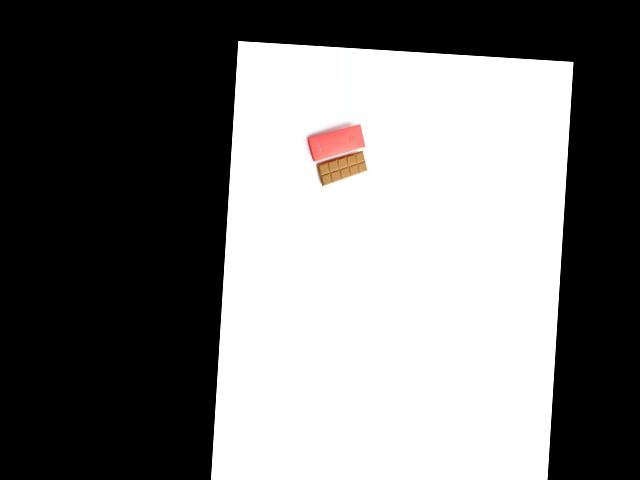chocolate: (313, 145, 369, 188)
